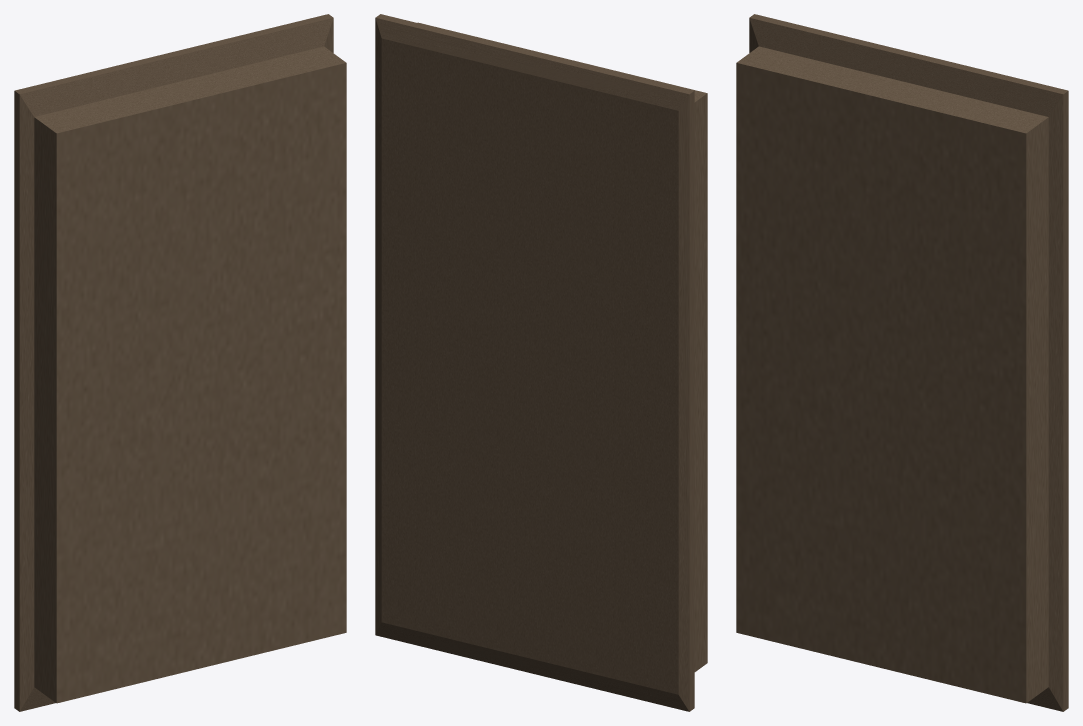
File: desert_land_1.FBX
The picture shows the model from 3 angles, left to right: view 1: azimuth 30°, elevation 25°; view 2: azimuth 150°, elevation 25°; view 3: azimuth 330°, elevation 25°; orthographic projection.
Visible parts, largest first — view 1: Cube.029; view 2: Cube.029; view 3: Cube.029.
Part boxes in pixels (box(x1,y1,x2,y2)): Cube.029: box(14, 14, 346, 711); Cube.029: box(375, 14, 707, 711); Cube.029: box(736, 14, 1068, 711).
Size of the model in its own units: 1616 by 3037 by 289.
